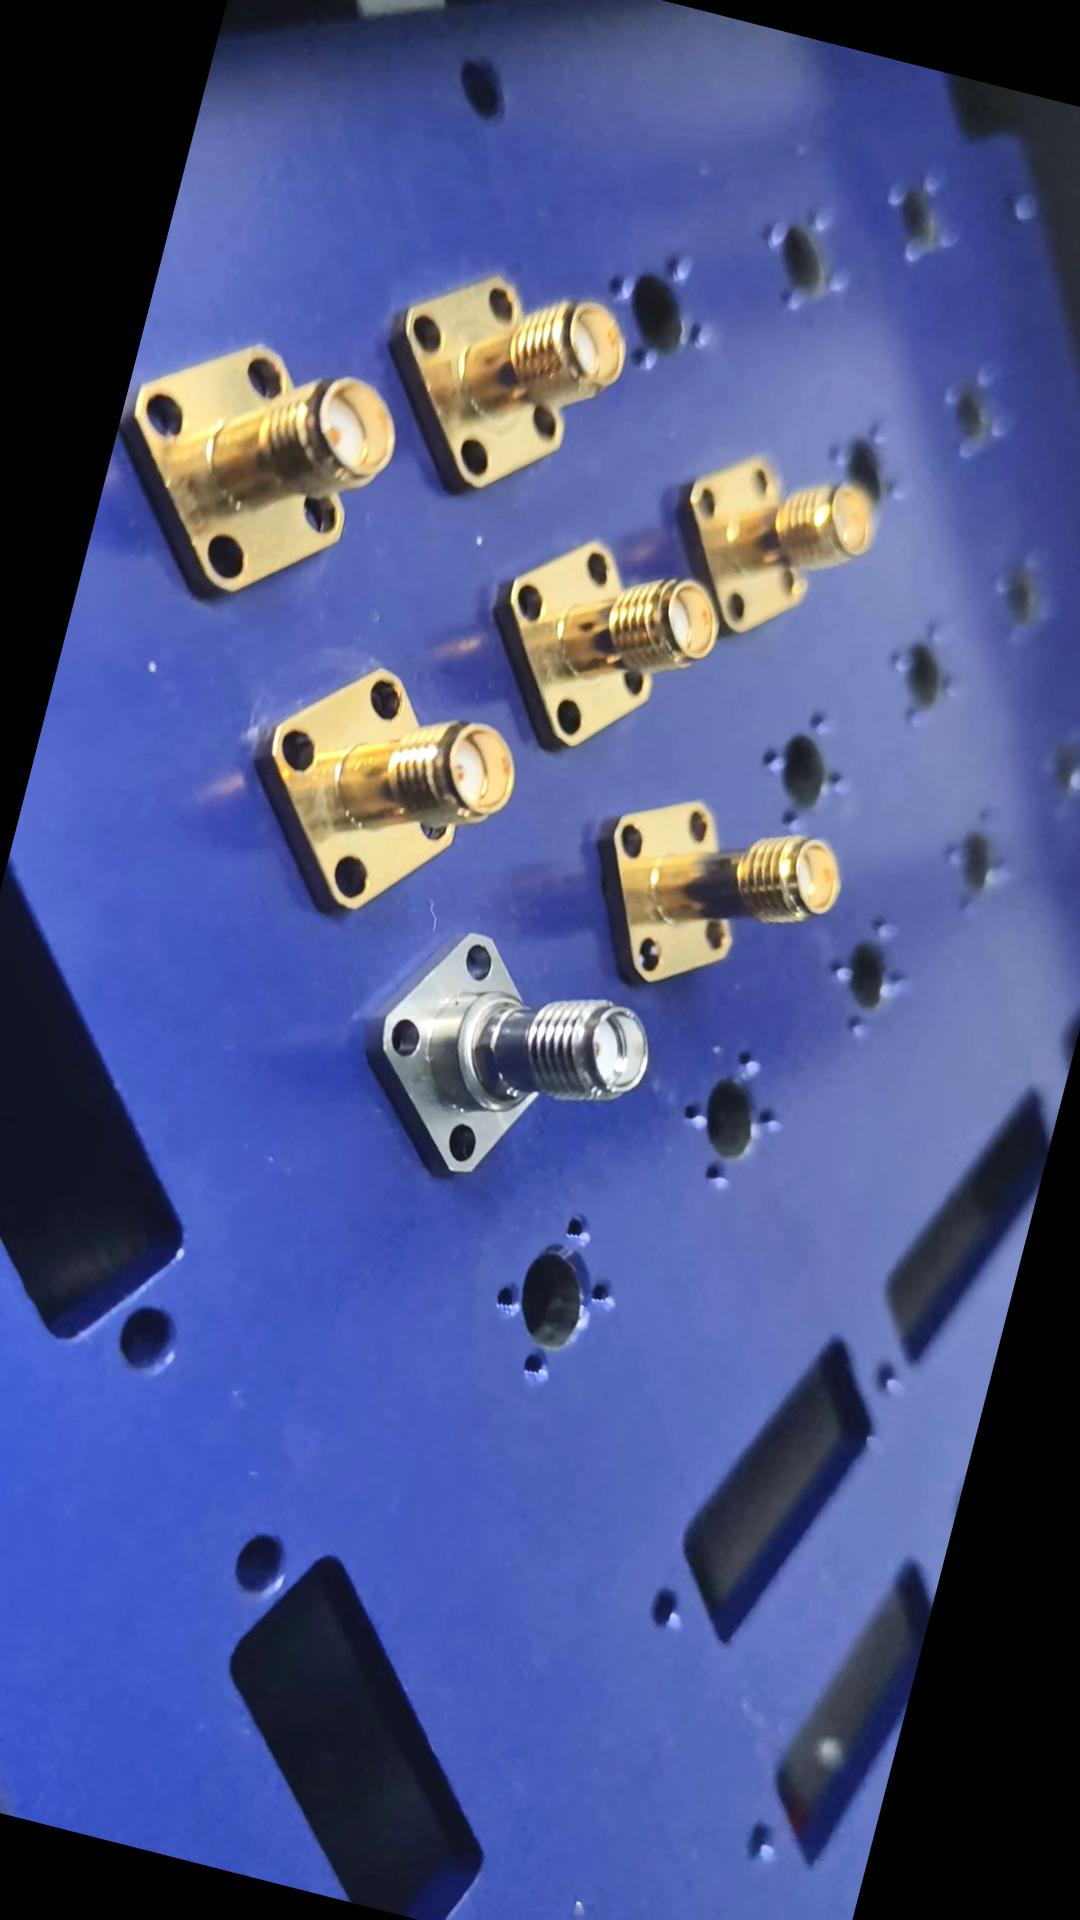SMA: (90, 309, 429, 634), (343, 895, 678, 1212), (223, 629, 534, 942), (360, 232, 640, 524), (580, 764, 864, 1027), (471, 496, 719, 771), (653, 429, 895, 673)
